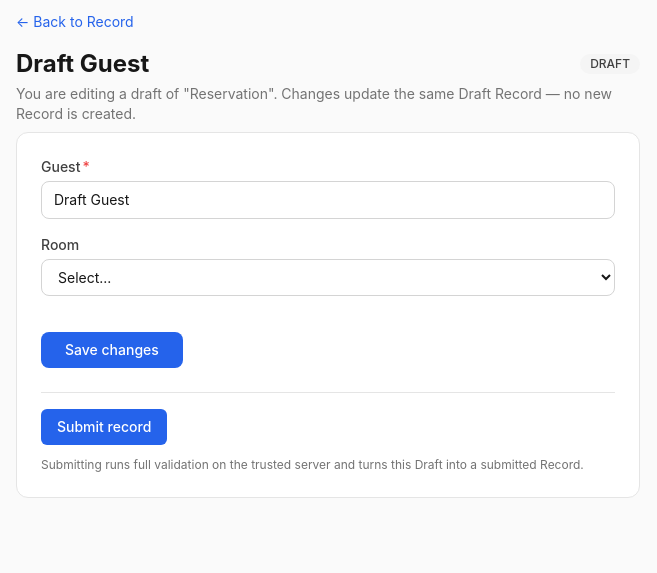
Test: Record Edit — submit › shows the server rejection and keeps editing when submit validation fails
Expected: the field showing "Draft Guest" is shown, 41,181 -> 615,219
Click the button "Submit record" at (104, 427), box 41,409 -> 167,445
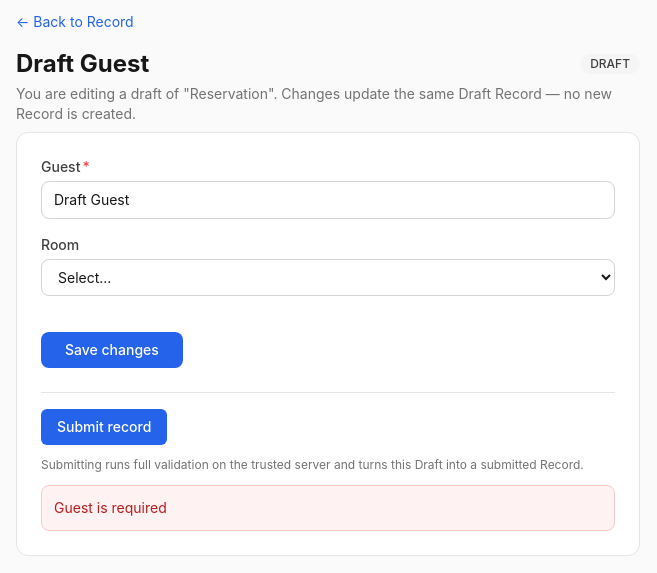
Expected: the message reads "Guest is required", 54,499 -> 167,516
